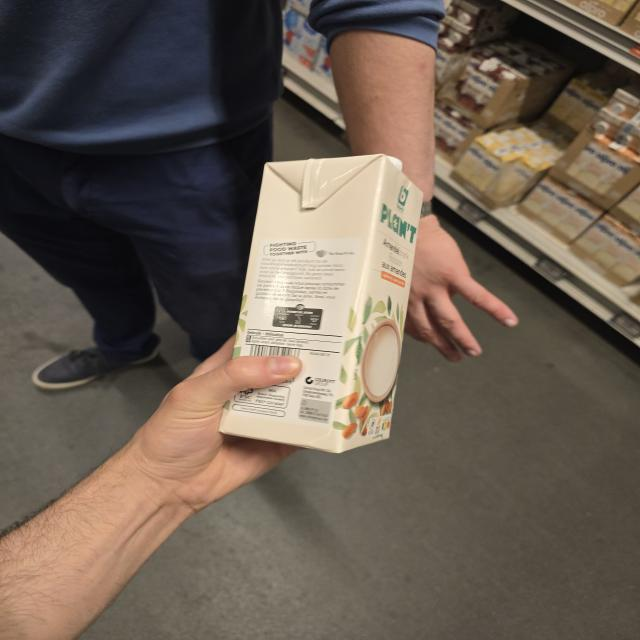Milk: (219, 155, 422, 453)
